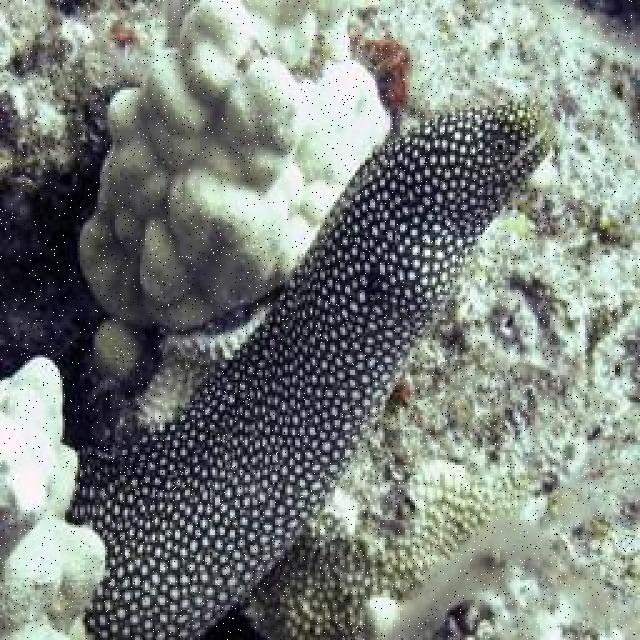fish: (65, 95, 560, 638)
reefs: (75, 1, 390, 376), (0, 354, 105, 638), (370, 519, 619, 634)
